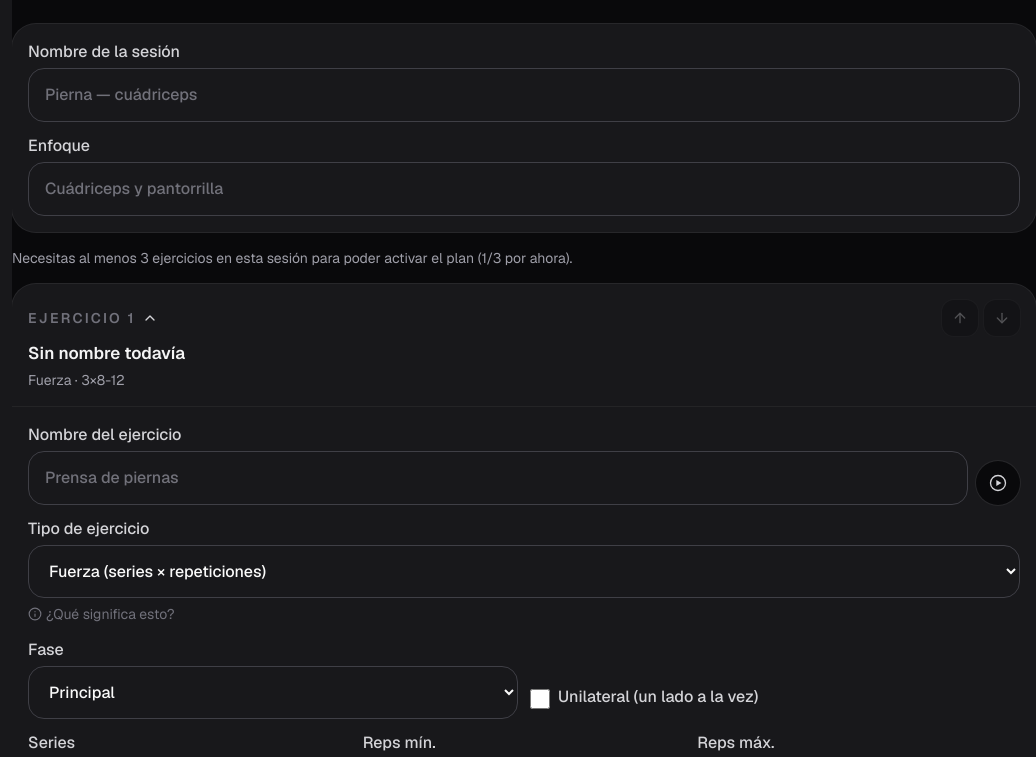
Test: SessionEditorForm › prefills sets/reps/RIR/rest from a known exercise's most recent prescription when its name is entered
Type "Sentadilla" into the field labelled "Nombre del ejercicio" at [498, 478], box [28, 451, 968, 505]
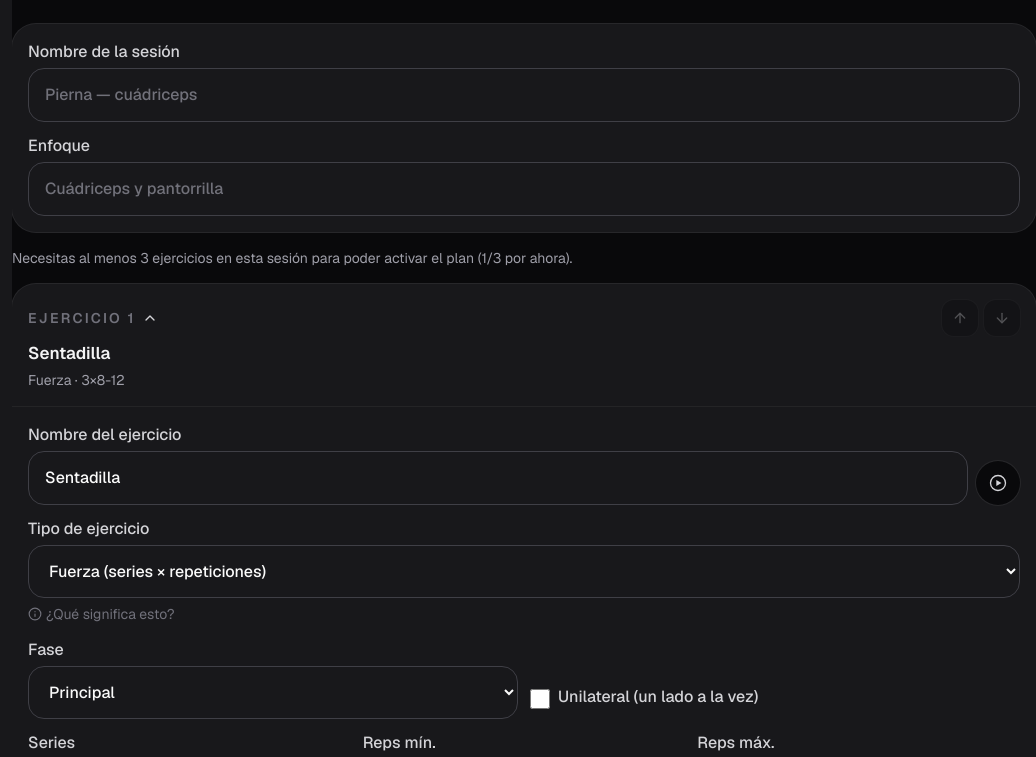
Leave the field labelled "Nombre del ejercicio", box [28, 451, 968, 505]
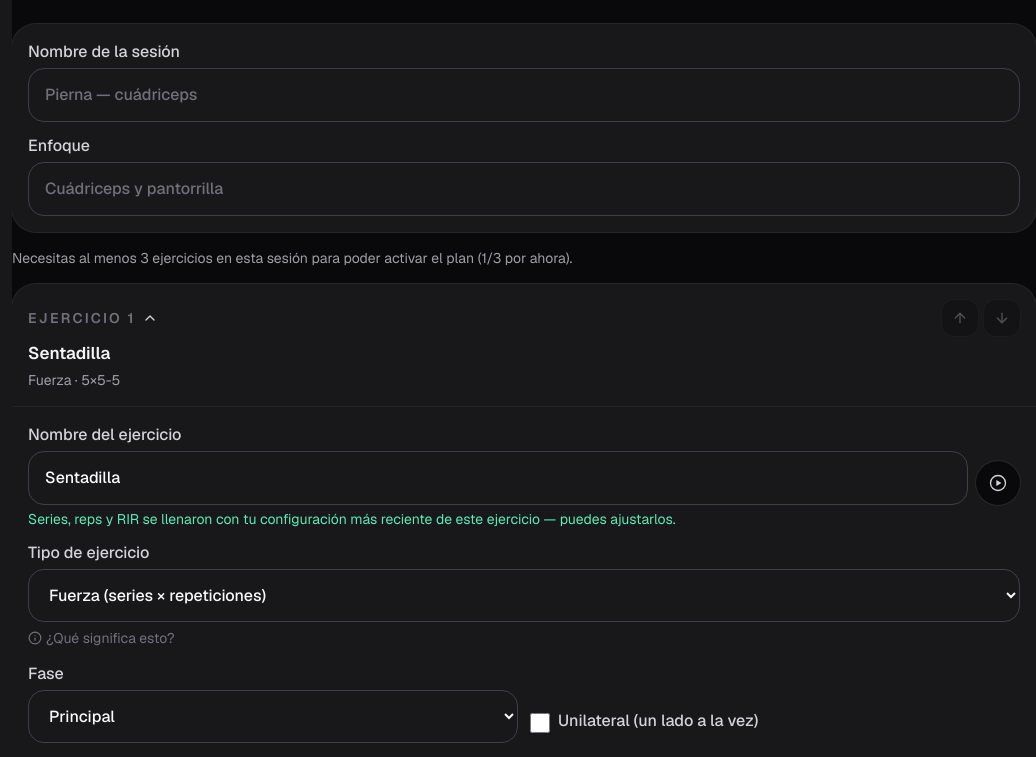
Result: the text "Series, reps y RIR se llenaron con tu configuración más reciente de este ejercicio — puedes ajustarlos." is shown at [28, 510, 676, 528]
